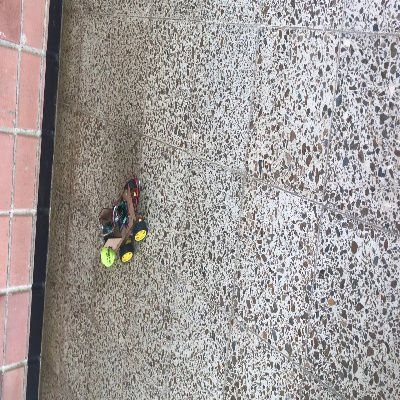Ball: (100, 248, 112, 265)
Robot: (98, 179, 147, 261)
